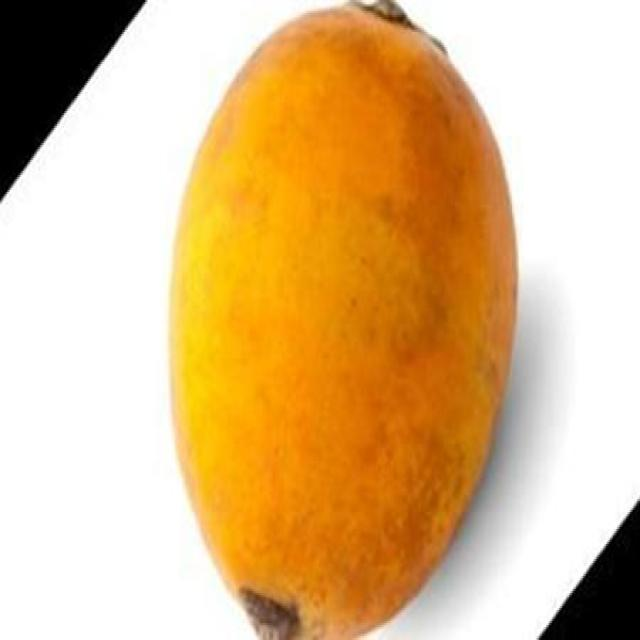good: (165, 4, 521, 638)
